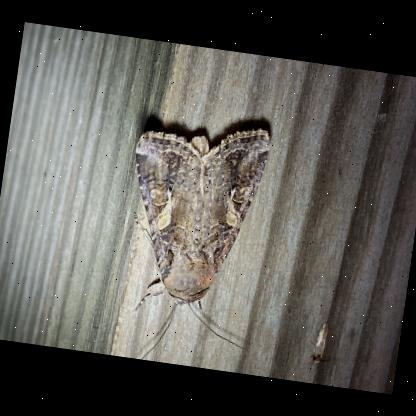Fall Armyworm Moth: (104, 108, 284, 374)
